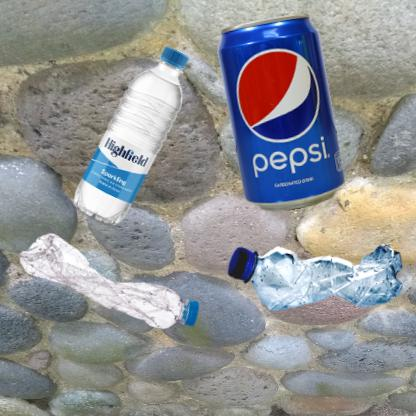botella: (10, 10, 282, 290), (10, 213, 278, 383), (213, 213, 416, 348)
lata: (213, 10, 360, 236)
